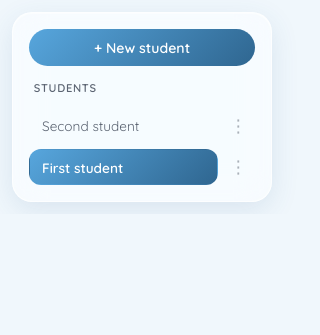
Test: Sidebar › options menu › closes on Escape
Step 1. Click the button named "Options for First student" → x=238, y=167, box [221,154,255,181]
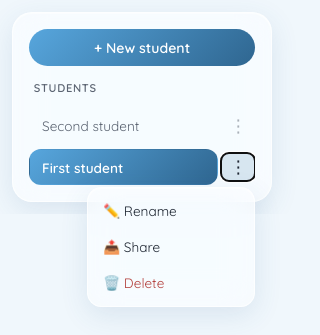
expect the menu is shown: met, box [87,187,255,307]
Step 2. Press Escape
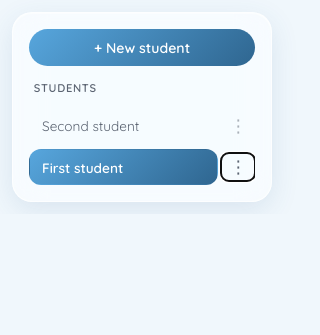
expect the menu is gone: met
